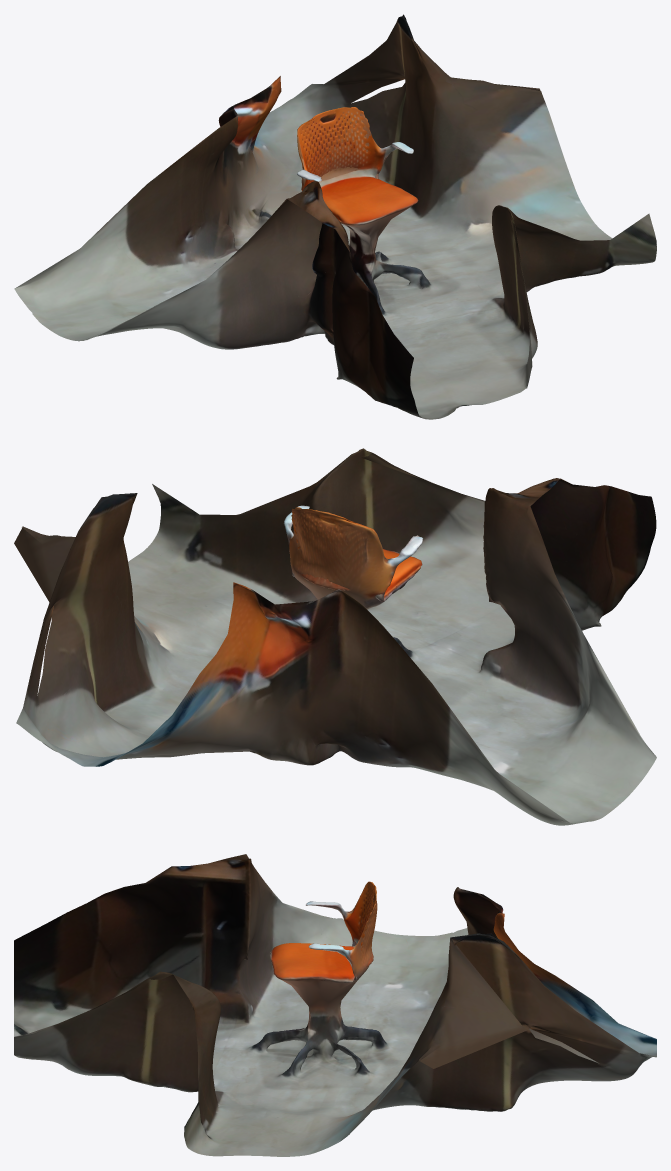
The picture shows the model from 3 angles, top to bottom: view 1: azimuth 30°, elevation 25°; view 2: azimuth 150°, elevation 25°; view 3: azimuth 270°, elevation 25°; orthographic projection. The views are drawn at different scales.
Parts seen in each view (by area): view 1: 3DModel; view 2: 3DModel; view 3: 3DModel.
Part boxes in pixels (x1,y1,x2,y2): 3DModel: [14, 14, 656, 419]; 3DModel: [14, 448, 656, 825]; 3DModel: [14, 854, 656, 1156].
Size of the model in its own units: 2.16 by 0.8144 by 2.41.
Materials: 1 (1 with a texture image).
